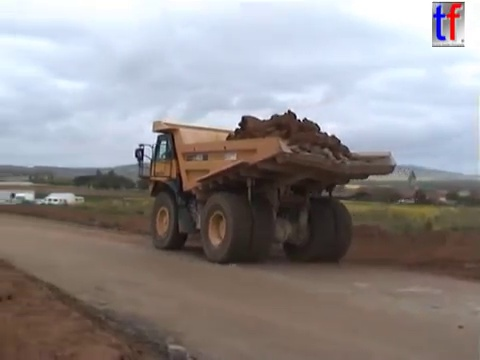truck: (132, 118, 398, 266)
